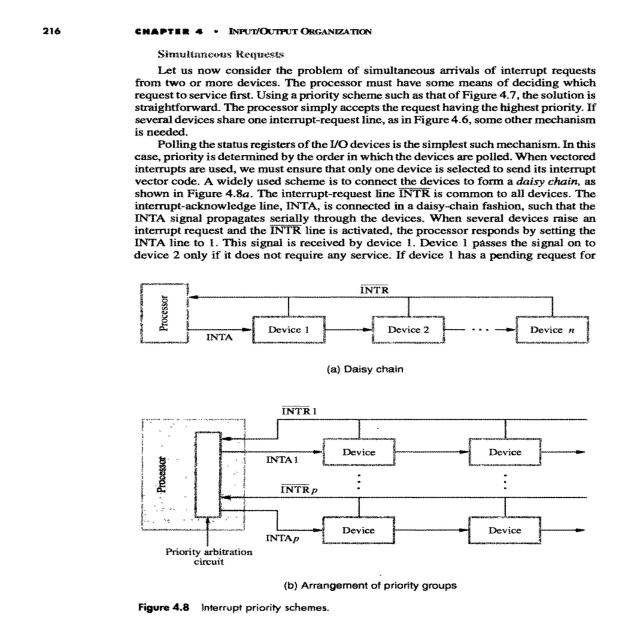diagram: (121, 261, 625, 594)
